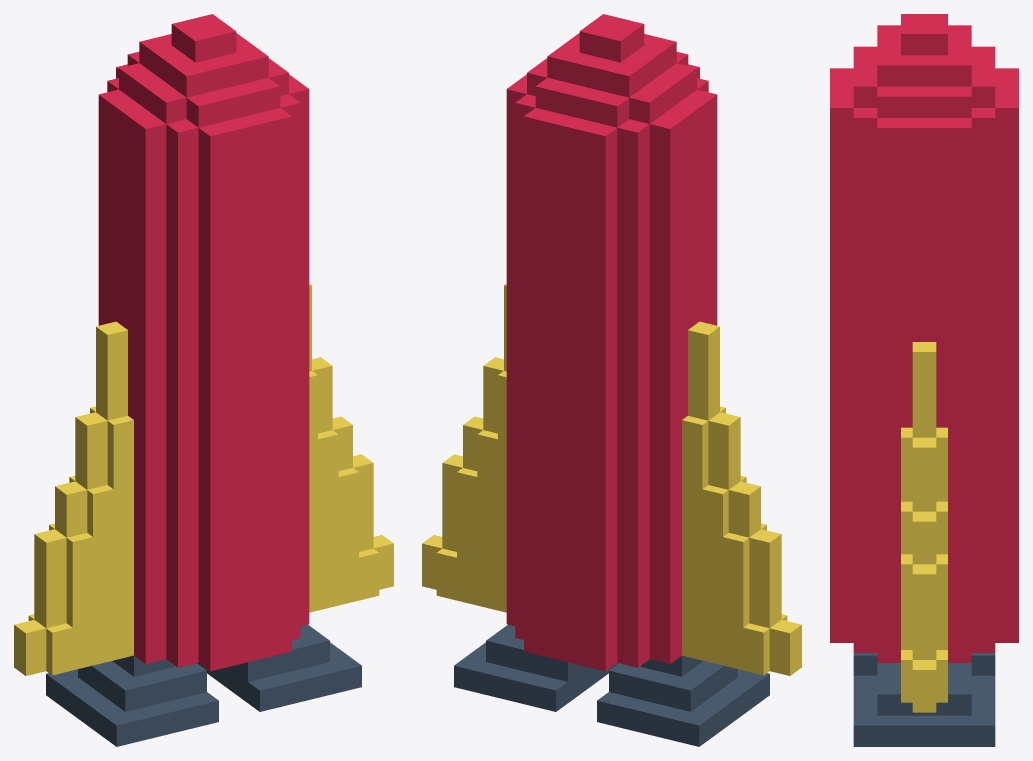
The model's file is rocket_blox.fbx.
The picture shows the model from 3 angles, left to right: view 1: azimuth 30°, elevation 25°; view 2: azimuth 150°, elevation 25°; view 3: azimuth 270°, elevation 25°; orthographic projection.
Parts seen in each view (by area): view 1: shape0 (×124); view 2: shape0 (×124); view 3: shape0 (×124).
Boxes of the visible parts, bbox=[...] form: shape0 (×124): bbox=[14, 14, 361, 746]; shape0 (×124): bbox=[454, 14, 801, 746]; shape0 (×124): bbox=[830, 14, 1018, 746].
Bounding box in the file's own units: 180 × 310 × 80.
